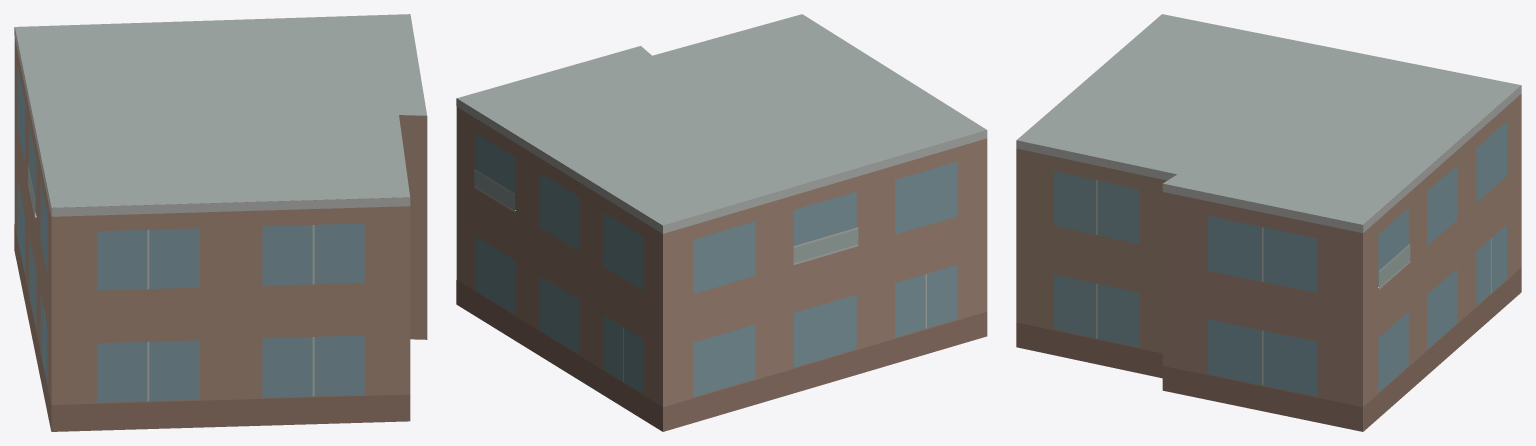
The model's file is survey-upis-32890209.glb.
3 renders of one model, left to right at view 1: azimuth 30°, elevation 25°; view 2: azimuth 150°, elevation 25°; view 3: azimuth 270°, elevation 25°, orthographic. The views are drawn at different scales.
Visible parts, largest first — view 1: survey-upis-32890209.tmp; view 2: survey-upis-32890209.tmp; view 3: survey-upis-32890209.tmp.
Part boxes in pixels (left/top/right/bottom): survey-upis-32890209.tmp: left=14, top=14, right=427, bottom=431; survey-upis-32890209.tmp: left=456, top=14, right=987, bottom=431; survey-upis-32890209.tmp: left=1016, top=14, right=1521, bottom=431.
Bounding box in the file's own units: 13.34 × 6.1 × 13.51.
